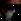with_mask: (2, 1, 21, 21)
